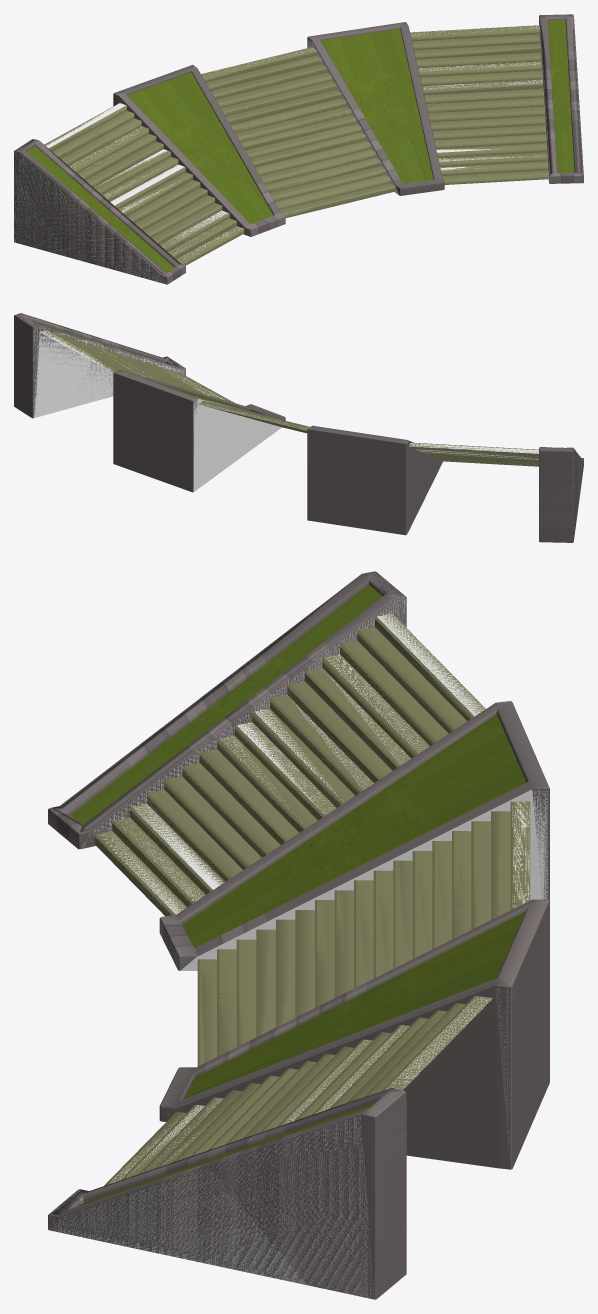
Rendered from objects_un_t04step01.gltf.
3 renders of one model, top to bottom at view 1: azimuth 30°, elevation 25°; view 2: azimuth 150°, elevation 25°; view 3: azimuth 270°, elevation 25°, orthographic. The views are drawn at different scales.
Parts seen in each view (by area): view 1: um_objects_un_t04step01_model_lod2Shape:objects_un_t04step01 (×2), um_objects_un_t04step01_model_lod0Shape:objects_un_t04step01 (×3), um_objects_un_t04step01_model_lod1Shape:objects_un_t04step01; view 2: um_objects_un_t04step01_model_lod0Shape:objects_un_t04step01 (×3), um_objects_un_t04step01_model_lod2Shape:objects_un_t04step01 (×2), um_objects_un_t04step01_model_lod1Shape:objects_un_t04step01; view 3: um_objects_un_t04step01_model_lod0Shape:objects_un_t04step01 (×3), um_objects_un_t04step01_model_lod2Shape:objects_un_t04step01 (×2), um_objects_un_t04step01_model_lod1Shape:objects_un_t04step01.
Part boxes in pixels (bbox=[...]): um_objects_un_t04step01_model_lod2Shape:objects_un_t04step01 (×2): bbox=[26, 20, 574, 272]; um_objects_un_t04step01_model_lod0Shape:objects_un_t04step01 (×3): bbox=[14, 14, 583, 284]; um_objects_un_t04step01_model_lod1Shape:objects_un_t04step01: bbox=[16, 14, 582, 275]; um_objects_un_t04step01_model_lod0Shape:objects_un_t04step01 (×3): bbox=[14, 313, 583, 542]; um_objects_un_t04step01_model_lod2Shape:objects_un_t04step01 (×2): bbox=[32, 320, 538, 465]; um_objects_un_t04step01_model_lod1Shape:objects_un_t04step01: bbox=[17, 313, 582, 458]; um_objects_un_t04step01_model_lod0Shape:objects_un_t04step01 (×3): bbox=[48, 571, 549, 1299]; um_objects_un_t04step01_model_lod2Shape:objects_un_t04step01 (×2): bbox=[70, 585, 530, 1205]; um_objects_un_t04step01_model_lod1Shape:objects_un_t04step01: bbox=[51, 572, 403, 1215].
Size of the model in its own units: 29.72 by 4.65 by 11.54.
4 materials, 3 textured.
